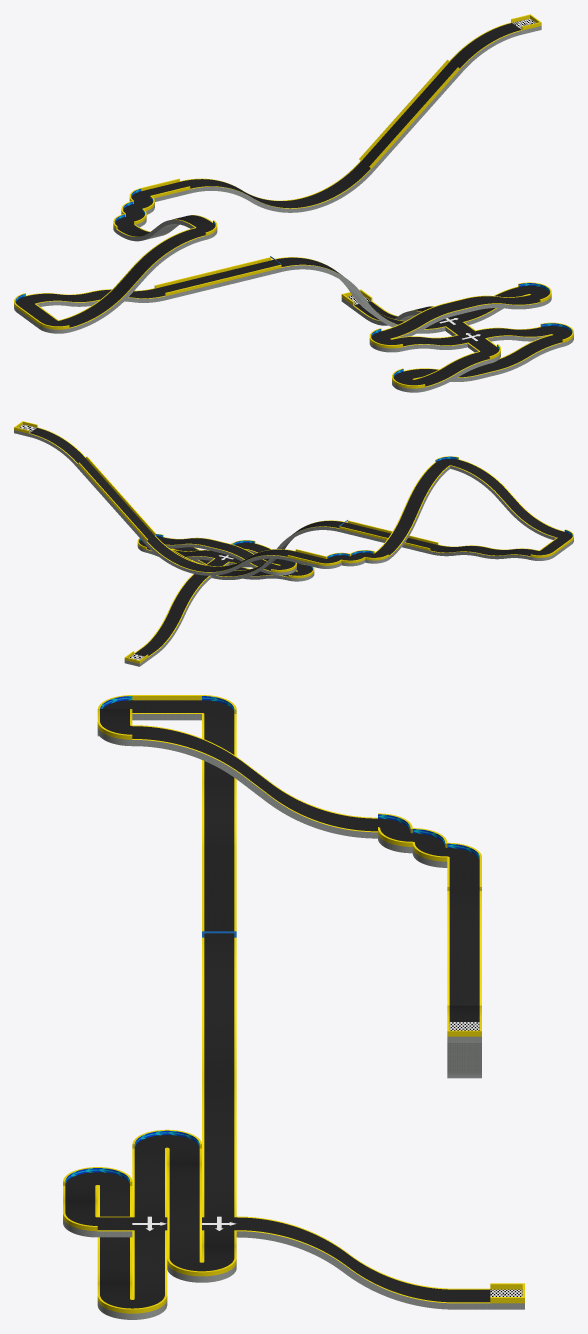
File: track_advanced1.dae
The picture shows the model from 3 angles, top to bottom: view 1: azimuth 30°, elevation 25°; view 2: azimuth 150°, elevation 25°; view 3: azimuth 270°, elevation 25°; orthographic projection. The views are drawn at different scales.
Visible parts, largest first — view 1: SketchUp (×6); view 2: SketchUp (×5); view 3: SketchUp (×6).
Part boxes in pixels (<box>): SketchUp (×6): <box>14,14,573,392</box>; SketchUp (×5): <box>14,421,573,666</box>; SketchUp (×6): <box>63,695,524,1319</box>.
Size of the model in its own units: 36922 by 15708 by 14880.
